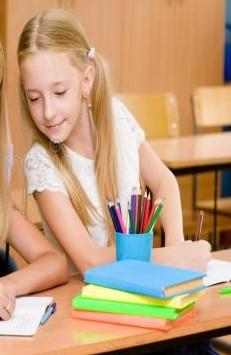cheating: (6, 2, 194, 185)
